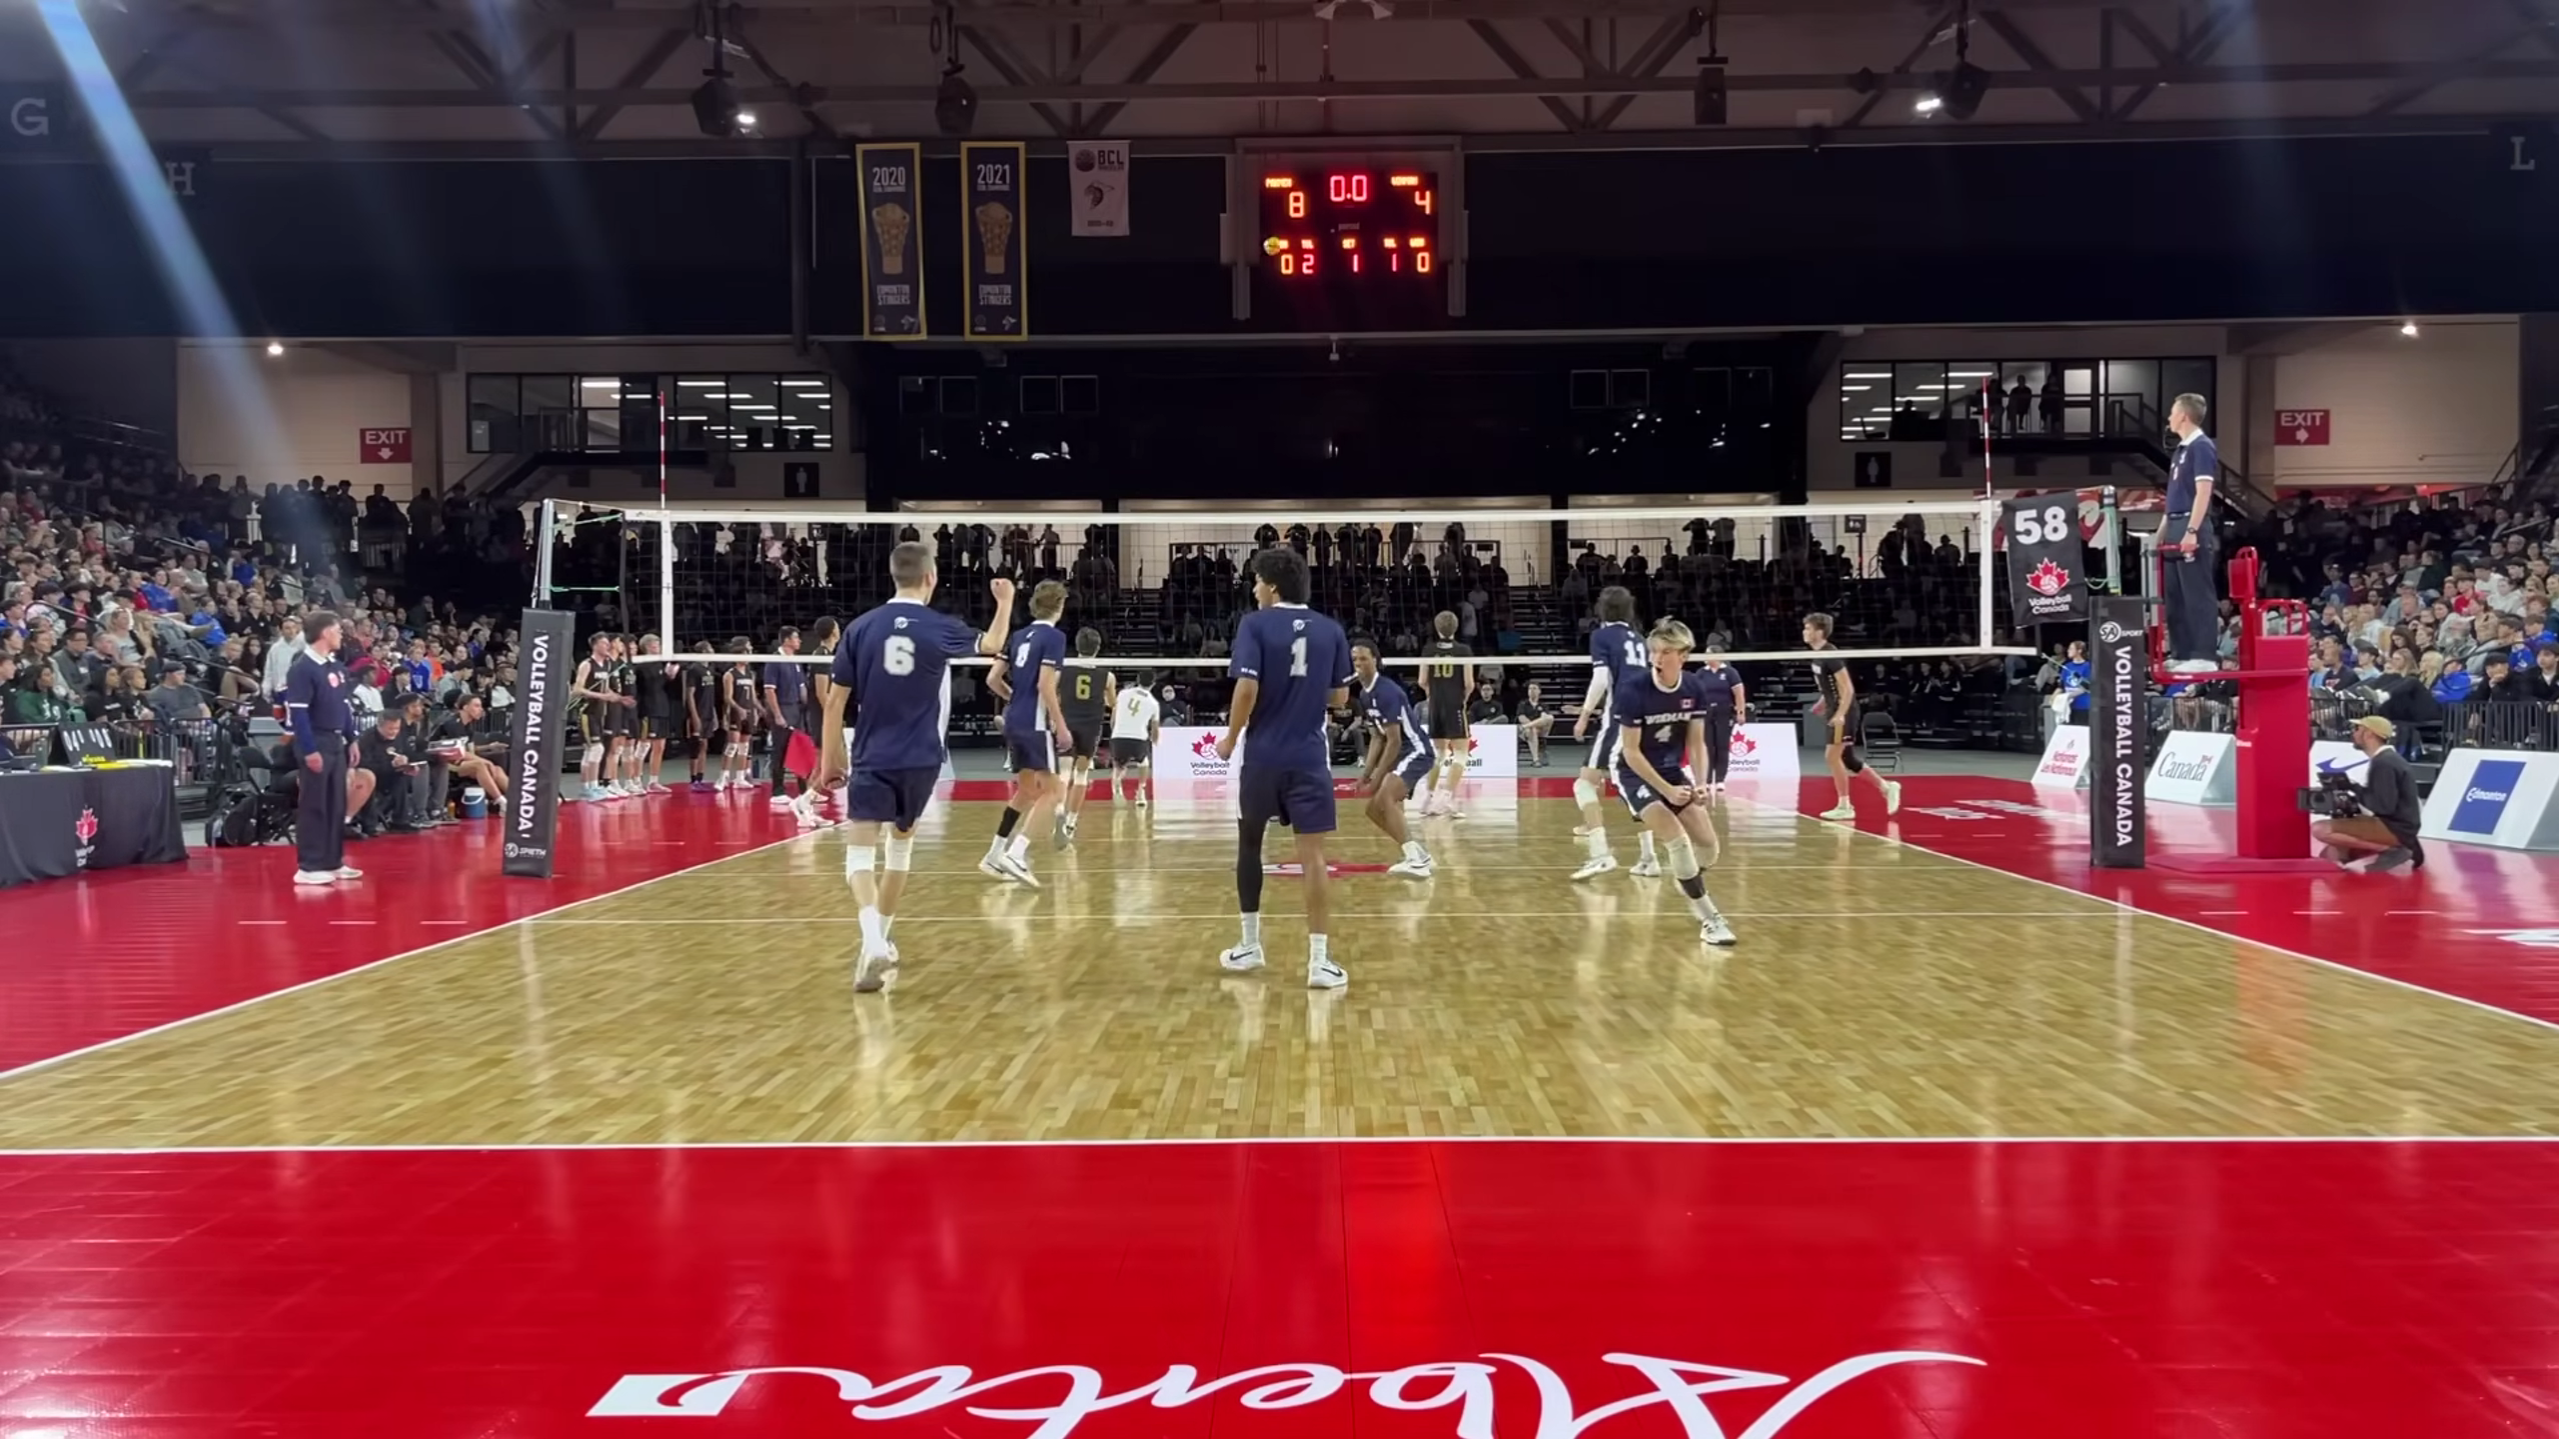Ball: (1262, 235, 1283, 258)
